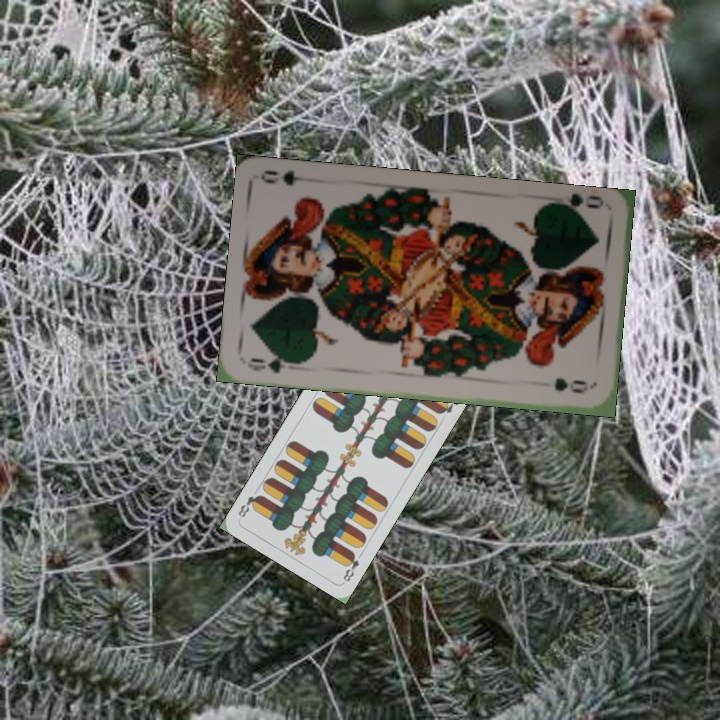E8: (339, 548, 362, 584)
GO: (548, 191, 606, 220), (243, 351, 302, 376)
